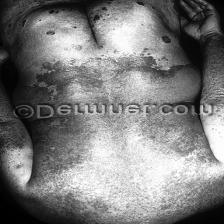Non-Cancerous Skin Condition: (35, 118, 215, 210), (27, 0, 172, 98), (181, 66, 224, 96)
